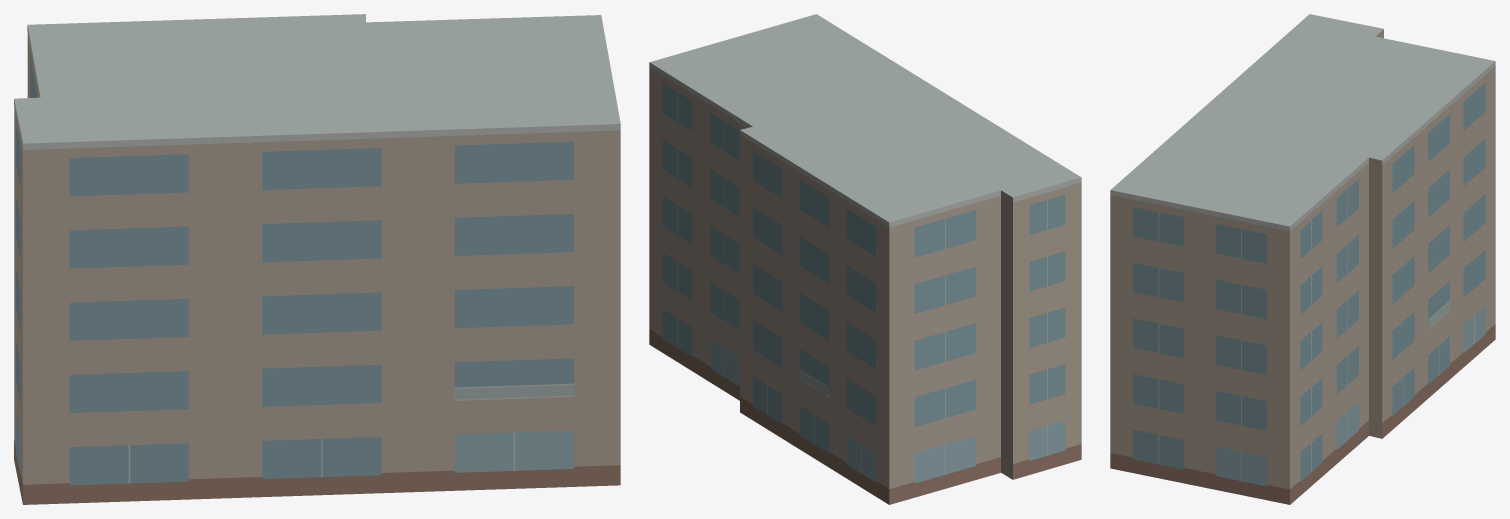
Rendered from survey-upis-32670317.glb.
The picture shows the model from 3 angles, left to right: view 1: azimuth 30°, elevation 25°; view 2: azimuth 150°, elevation 25°; view 3: azimuth 270°, elevation 25°; orthographic projection. The views are drawn at different scales.
Visible parts, largest first — view 1: survey-upis-32670317.tmp; view 2: survey-upis-32670317.tmp; view 3: survey-upis-32670317.tmp.
Boxes of the visible parts, x1,y1,x2,y2 form: survey-upis-32670317.tmp: (14, 14, 620, 504); survey-upis-32670317.tmp: (649, 14, 1081, 504); survey-upis-32670317.tmp: (1110, 14, 1495, 504).
Bounding box in the file's own units: 22.61 × 13.8 × 17.32.
